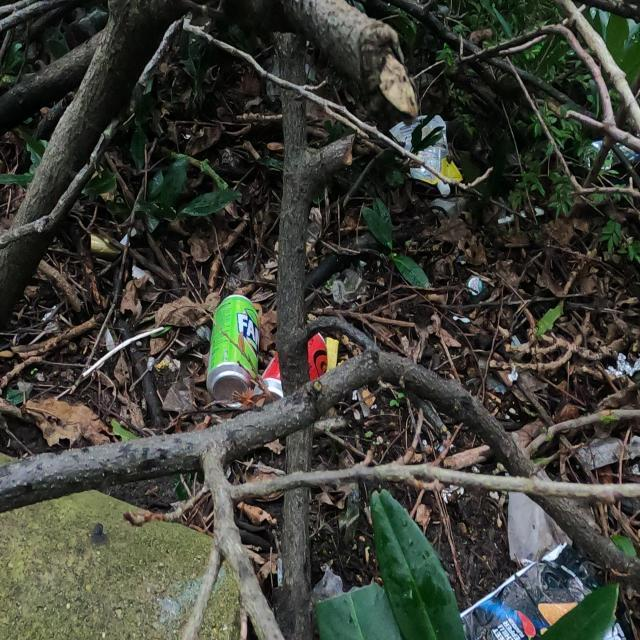Can-Metal: (206, 292, 268, 420), (252, 329, 329, 422)
Paper: (506, 490, 572, 562)
Plastic: (458, 539, 626, 640), (388, 112, 467, 196)
